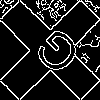G: (25, 25, 85, 85)
